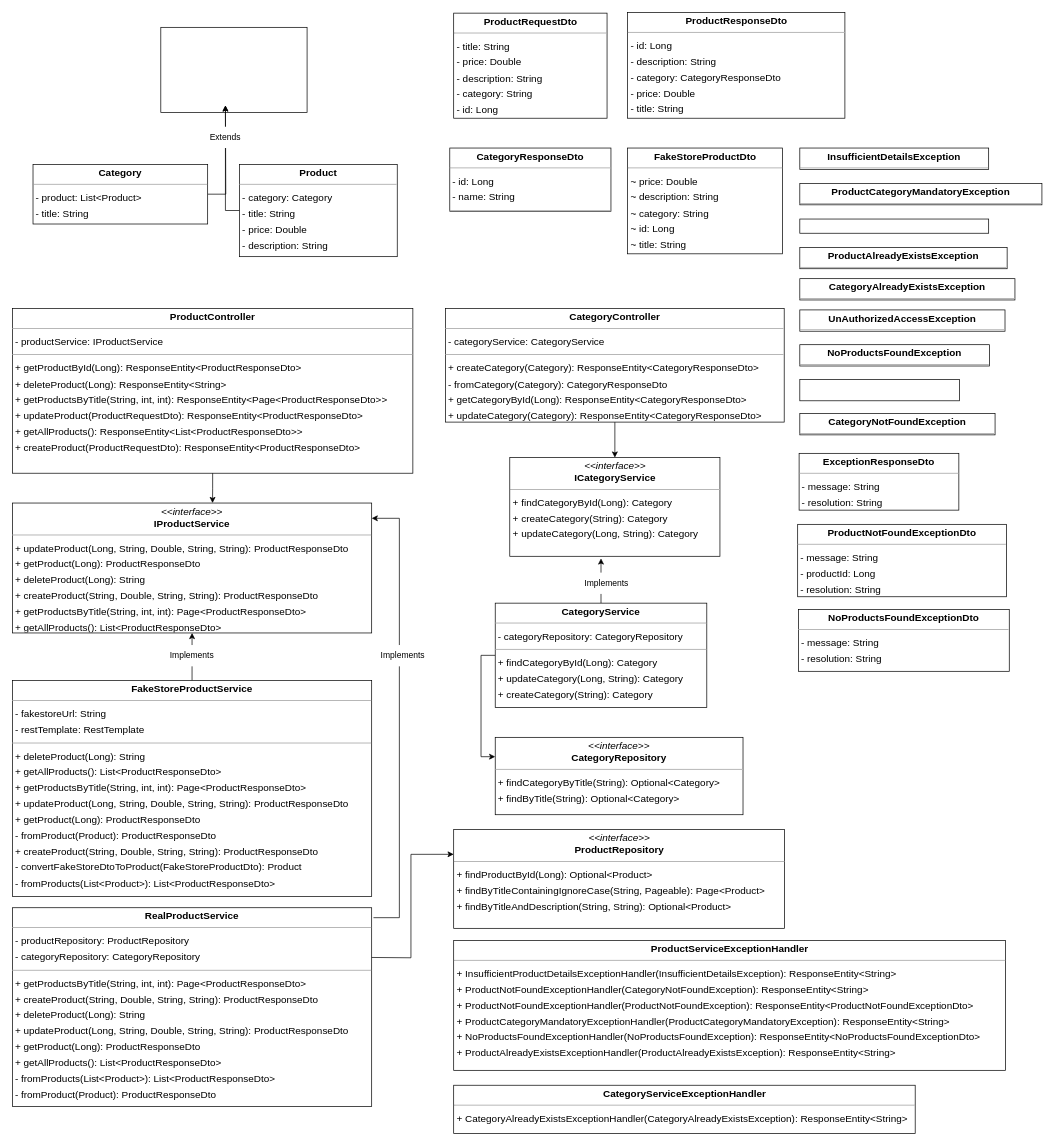
Some shapes in this 1054 by 1146 pixel diagram are drawn without their labels. The box of each missing label's shape, as (x1, y1, x2, y2) in pixels:
<Abstract> BaseModel - id: Long - modifiedAt: Date - createdAt: Date: (160, 27, 307, 113)
InvalidTokenException: (799, 379, 960, 401)
ProductNotFoundException: (799, 218, 989, 233)
